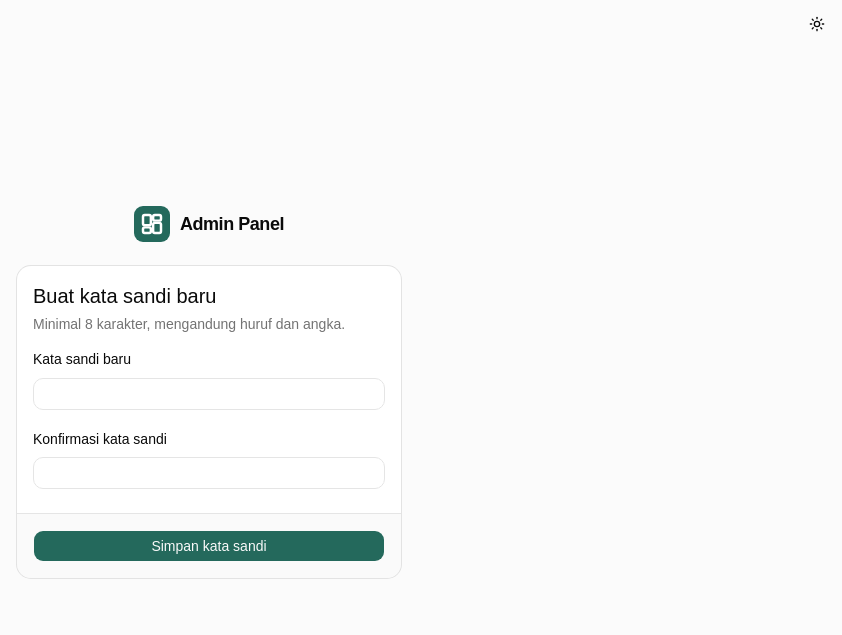
it: public auth pages › reports an expired reset token
In the password field labelled "Kata sandi baru": (209, 394) [33,378,385,410], type "BaruSekali1"
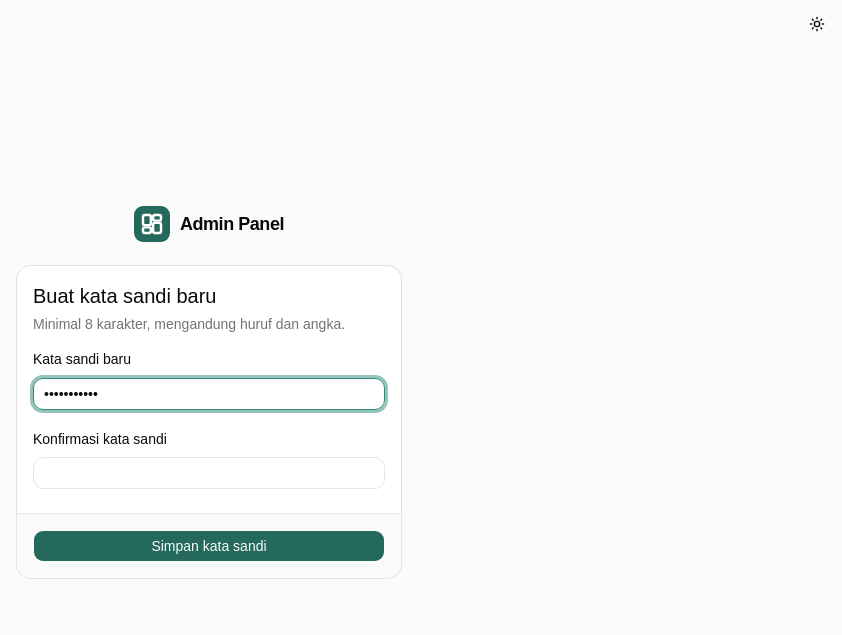
In the password field labelled "Konfirmasi kata sandi": (209, 473) [33,457,385,489], type "BaruSekali1"
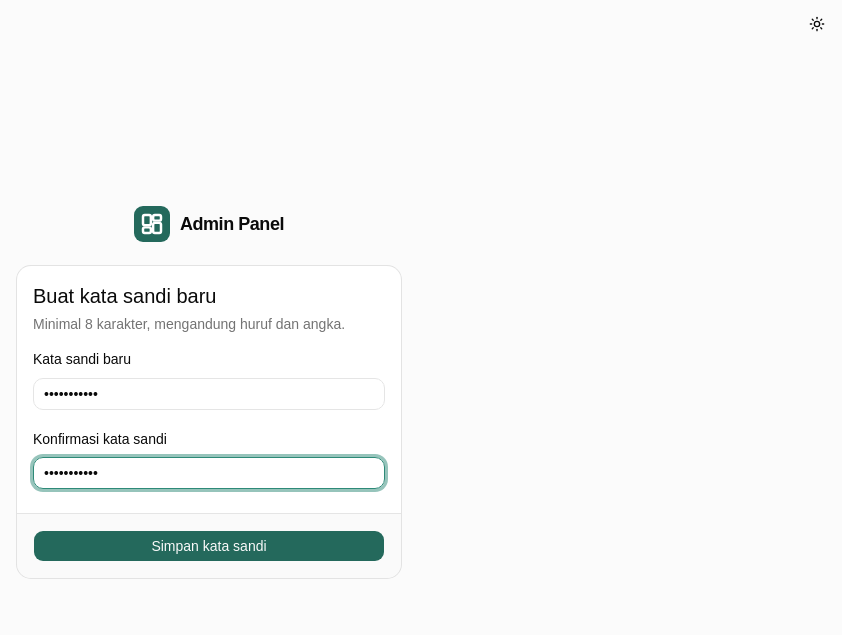
Click the button "Simpan kata sandi": (209, 546) [33,530,385,562]
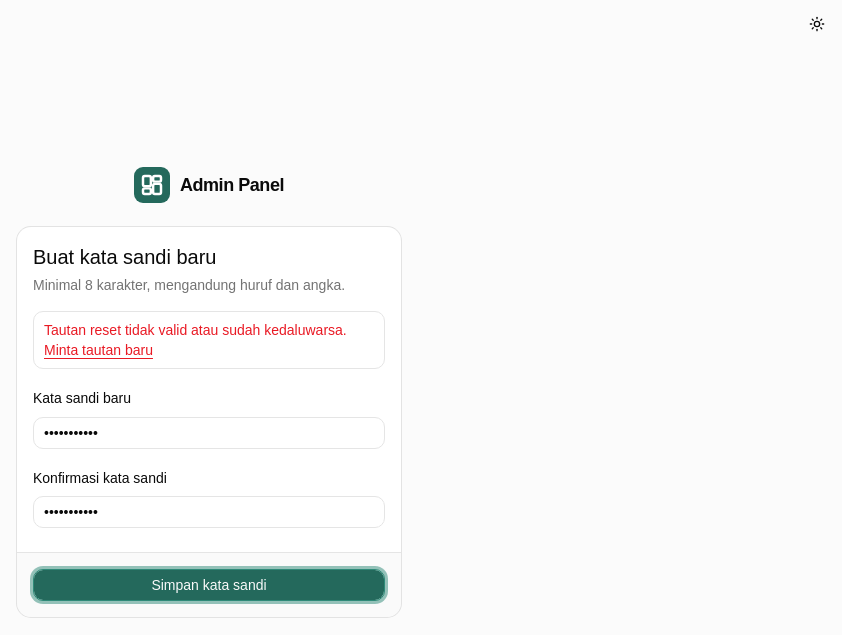
Expected: the text "sudah kedaluwarsa" is shown, [44,322,347,338]
Expected: the link "Minta tautan baru" is shown, [44,342,153,358]
